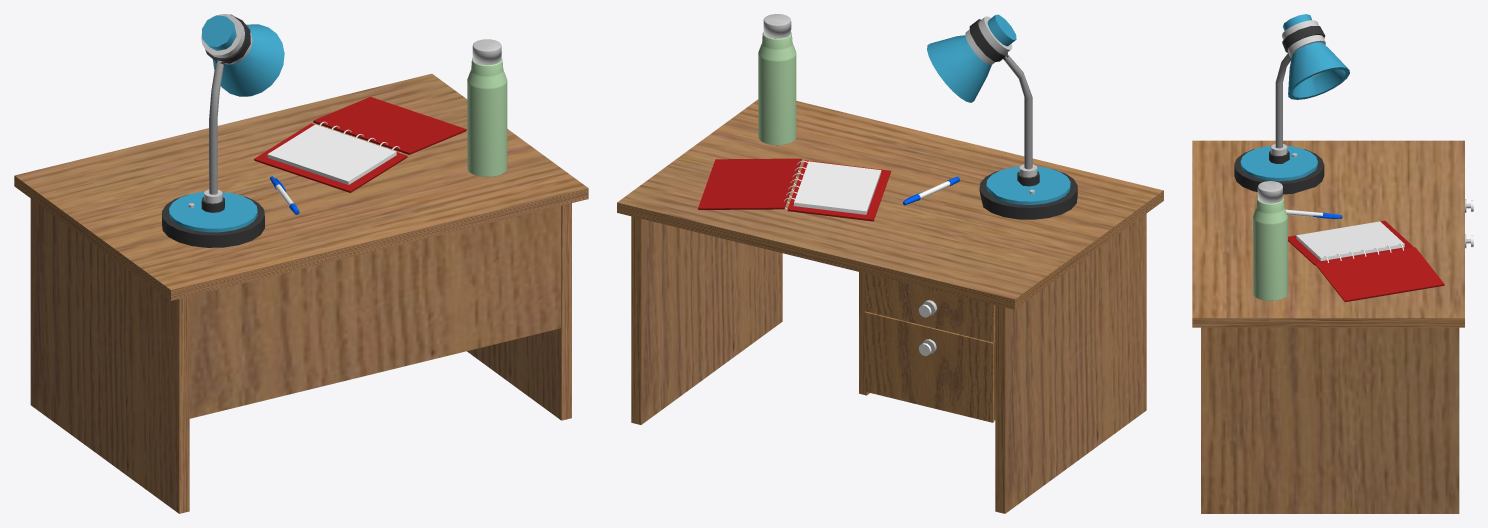
Rendered from table.glb.
3 renders of one model, left to right at view 1: azimuth 30°, elevation 25°; view 2: azimuth 150°, elevation 25°; view 3: azimuth 270°, elevation 25°, orthographic. The views are drawn at different scales.
Visible parts, largest first — view 1: Object_13, Object_9, Object_8, Object_3, Object_5, Object_10, Object_12, Object_11, Object_2; view 2: Object_13, Object_8, Object_9, Object_3, Object_5, Object_10, Object_11, Object_12, Object_2; view 3: Object_13, Object_8, Object_9, Object_3, Object_5, Object_10, Object_11, Object_12, Object_2.
Boxes of the visible parts, <box> form: Object_13: <box>14,73,588,513</box>; Object_9: <box>169,15,284,232</box>; Object_8: <box>254,97,466,192</box>; Object_3: <box>467,58,507,176</box>; Object_5: <box>267,124,396,184</box>; Object_10: <box>162,14,264,247</box>; Object_12: <box>209,60,223,194</box>; Object_11: <box>188,14,252,207</box>; Object_2: <box>472,39,501,65</box>; Object_13: <box>617,99,1163,513</box>; Object_8: <box>698,158,891,221</box>; Object_9: <box>927,14,1070,204</box>; Object_3: <box>758,32,796,145</box>; Object_5: <box>793,161,881,214</box>; Object_10: <box>969,19,1077,219</box>; Object_11: <box>922,16,1037,354</box>; Object_12: <box>1004,54,1032,169</box>; Object_2: <box>763,14,791,38</box>; Object_13: <box>1192,140,1464,513</box>; Object_8: <box>1288,220,1444,301</box>; Object_9: <box>1240,14,1349,181</box>; Object_3: <box>1253,197,1287,300</box>; Object_5: <box>1296,221,1404,260</box>; Object_10: <box>1234,26,1325,194</box>; Object_11: <box>1271,20,1470,248</box>; Object_12: <box>1275,53,1291,148</box>; Object_2: <box>1257,181,1282,203</box>.
Size of the model in its own units: 8.01 by 7.91 by 5.36.
11 materials, 1 textured.
